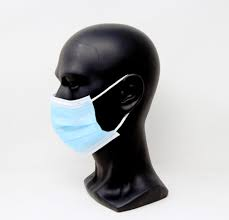with-mask: (50, 25, 150, 155)
